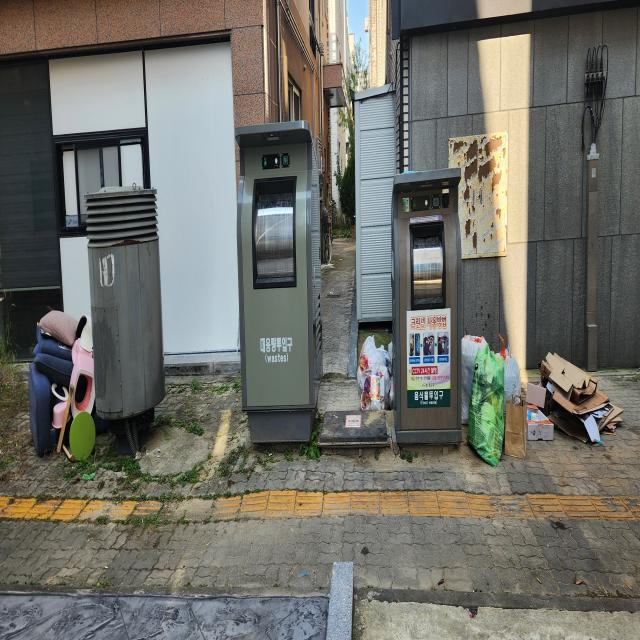CleanNet: (236, 124, 324, 445), (393, 166, 463, 446)
General Waste: (542, 344, 620, 449), (463, 334, 528, 452), (471, 344, 506, 465), (358, 337, 392, 411)
Large Waste Items: (32, 325, 74, 452), (65, 330, 95, 426)
